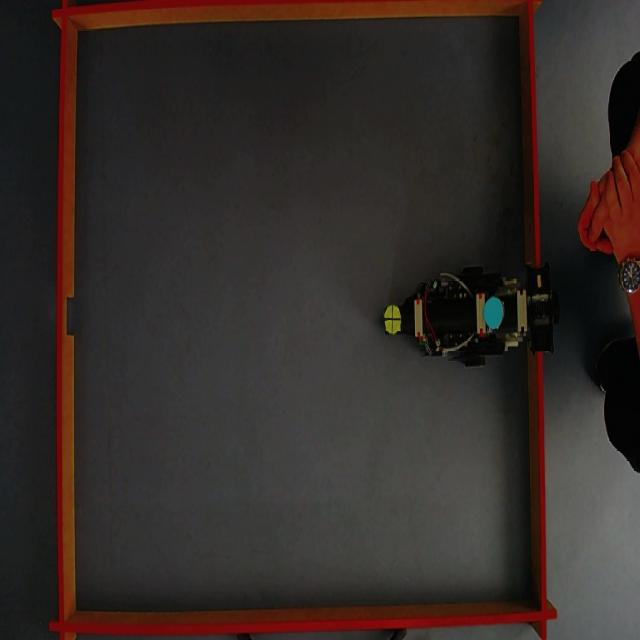robot: (386, 264, 558, 368)
robot-front: (384, 303, 402, 336)
robot-rear: (484, 292, 504, 330)
